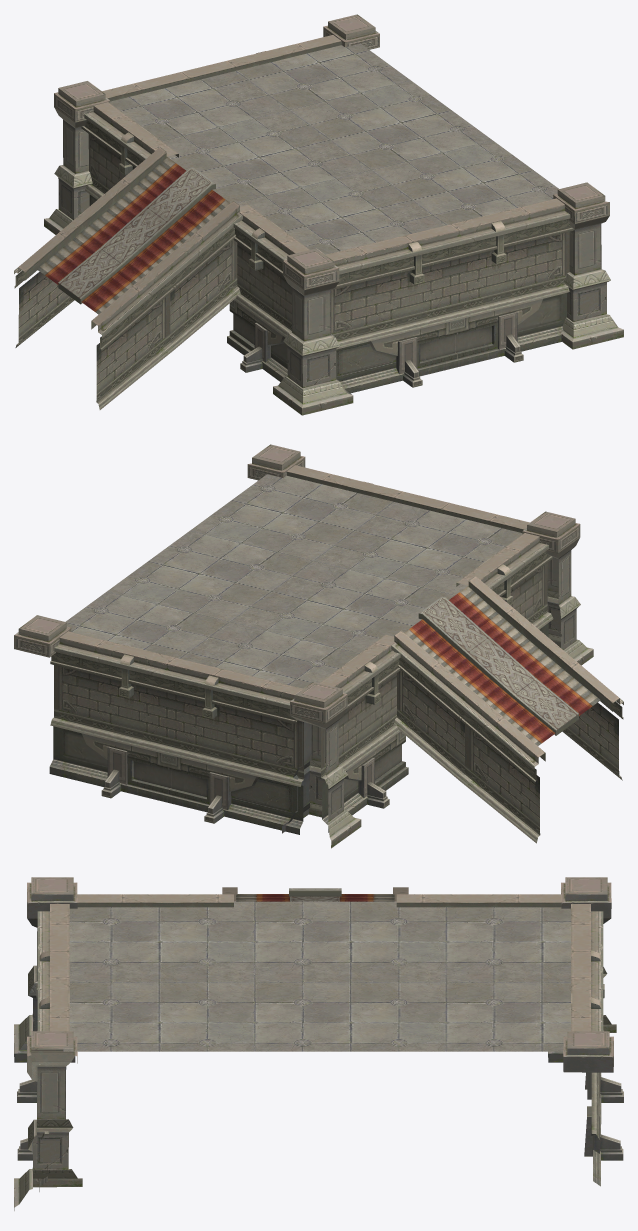
Rendered from WSD_Terrain_03.FBX.
3 renders of one model, top to bottom at view 1: azimuth 30°, elevation 25°; view 2: azimuth 150°, elevation 25°; view 3: azimuth 270°, elevation 25°, orthographic. The views are drawn at different scales.
Parts seen in each view (by area): view 1: WSD_Terrain_03; view 2: WSD_Terrain_03; view 3: WSD_Terrain_03.
Boxes of the visible parts, box(x1,y1,x2,y2) form: WSD_Terrain_03: box(14, 14, 623, 415); WSD_Terrain_03: box(14, 444, 623, 848); WSD_Terrain_03: box(14, 877, 623, 1210).
Size of the model in its own units: 36.51 by 13.49 by 37.81.
